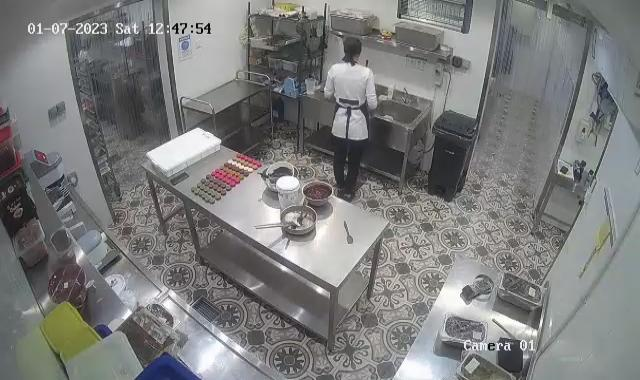no_hairnet: (345, 35, 362, 62)
